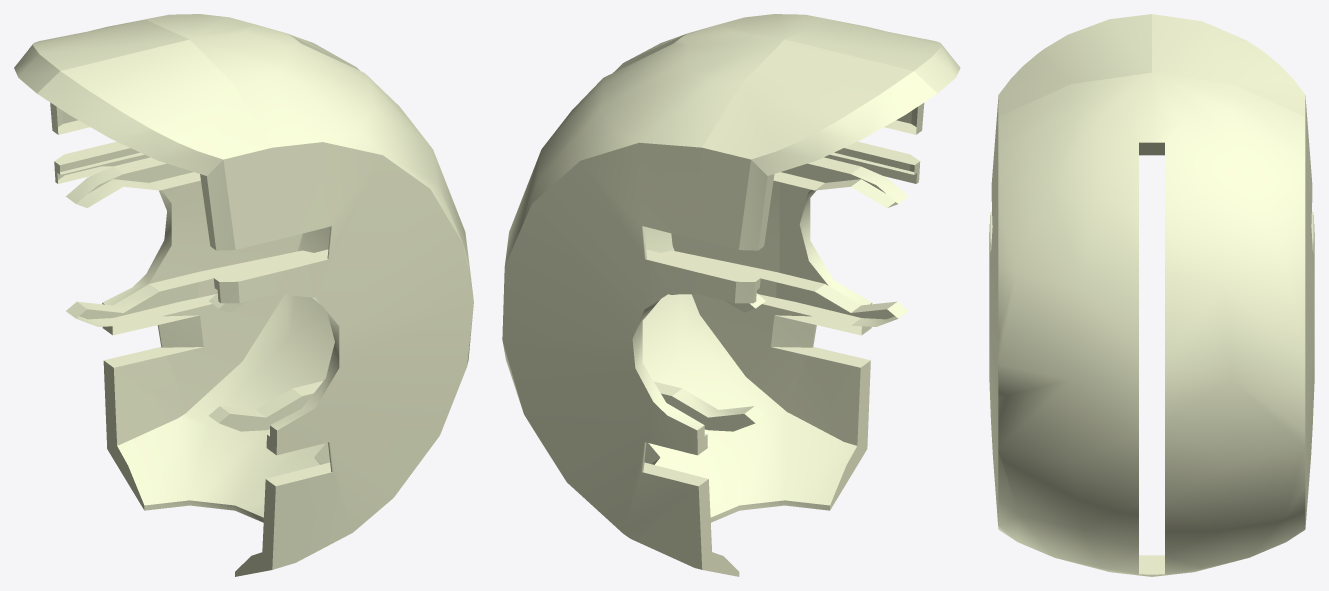
The model's file is finger_base.dae.
3 views of the same model, side by side, from view 1: azimuth 30°, elevation 25°; view 2: azimuth 150°, elevation 25°; view 3: azimuth 270°, elevation 25° (orthographic). The views are drawn at different scales.
Visible parts, largest first — view 1: ShapeIndexedFaceS_007; view 2: ShapeIndexedFaceS_007; view 3: ShapeIndexedFaceS_007.
Part boxes in pixels (x1,y1,x2,y2): ShapeIndexedFaceS_007: (14,14,473,576); ShapeIndexedFaceS_007: (502,14,960,576); ShapeIndexedFaceS_007: (989,14,1314,576).
Size of the model in its own units: 0.0331 by 0.0251 by 0.0399.
